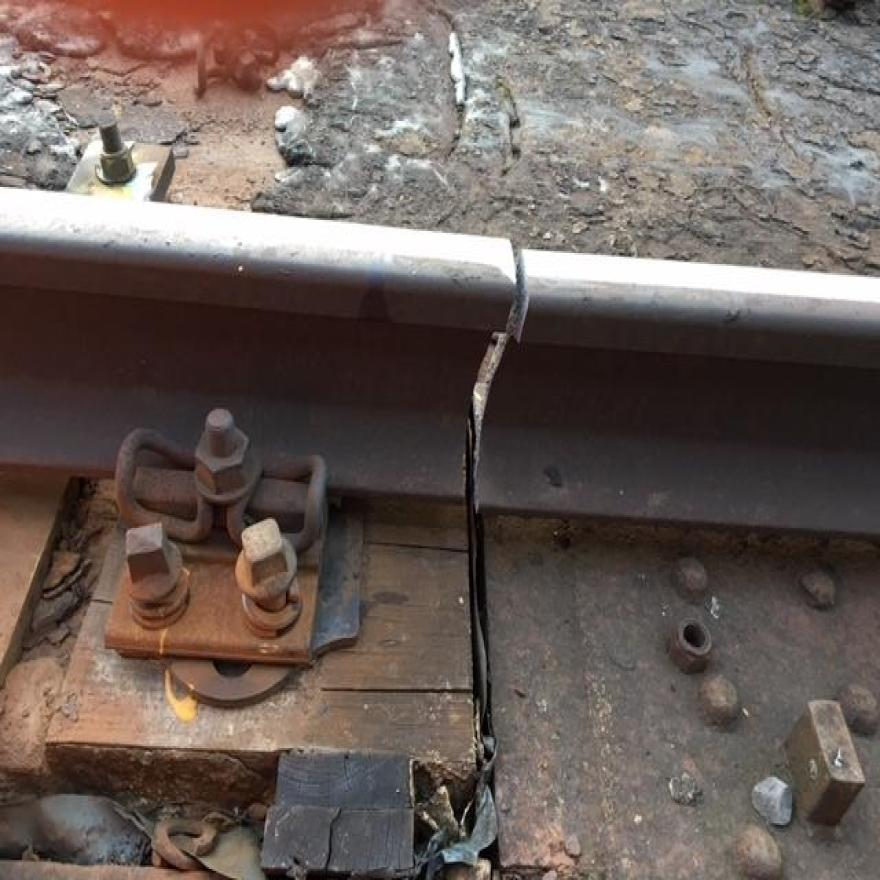railway-gap: (403, 325, 549, 504), (473, 202, 564, 364)
